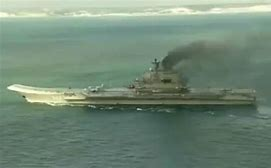smoke: (161, 36, 216, 69)
